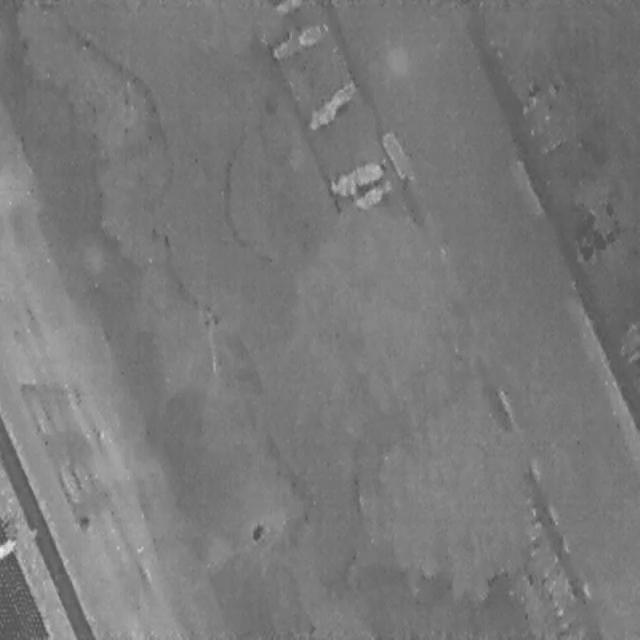Bicycle: (304, 73, 359, 134), (268, 14, 331, 64), (323, 158, 386, 200), (350, 172, 394, 218)
